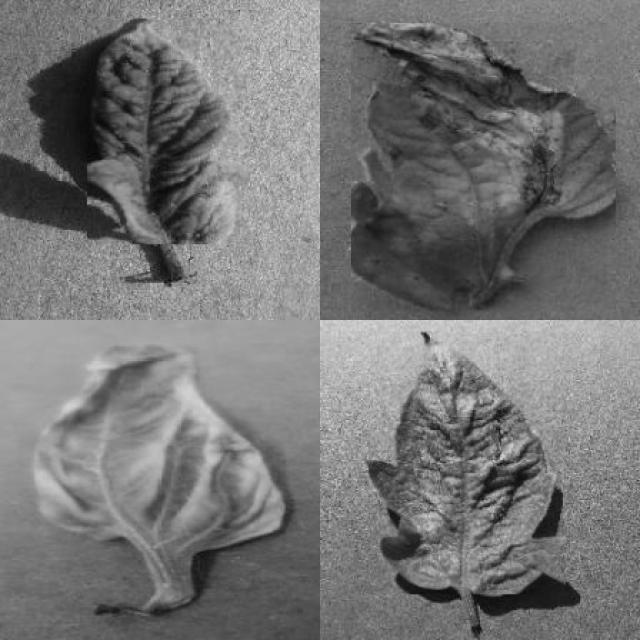Early Blight: (351, 22, 616, 312)
Spider Mites: (368, 332, 566, 595)
Yellow Leaf Curl Virus: (35, 343, 286, 551), (88, 19, 251, 244)
